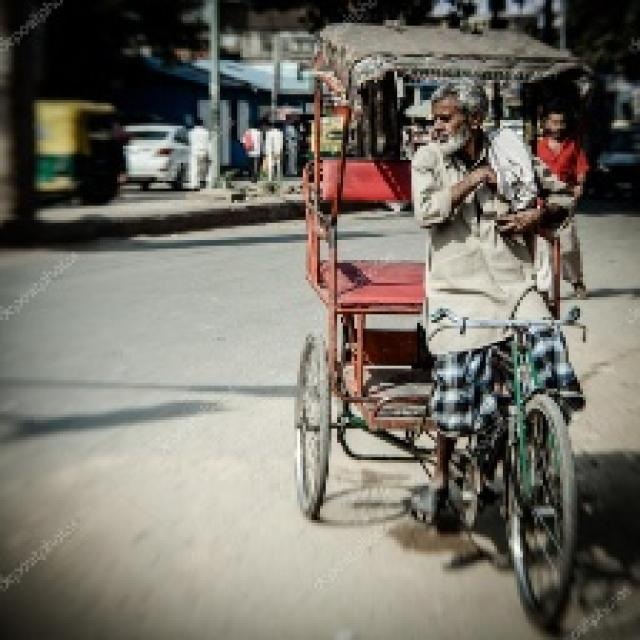rickshaw: (286, 21, 601, 591)
